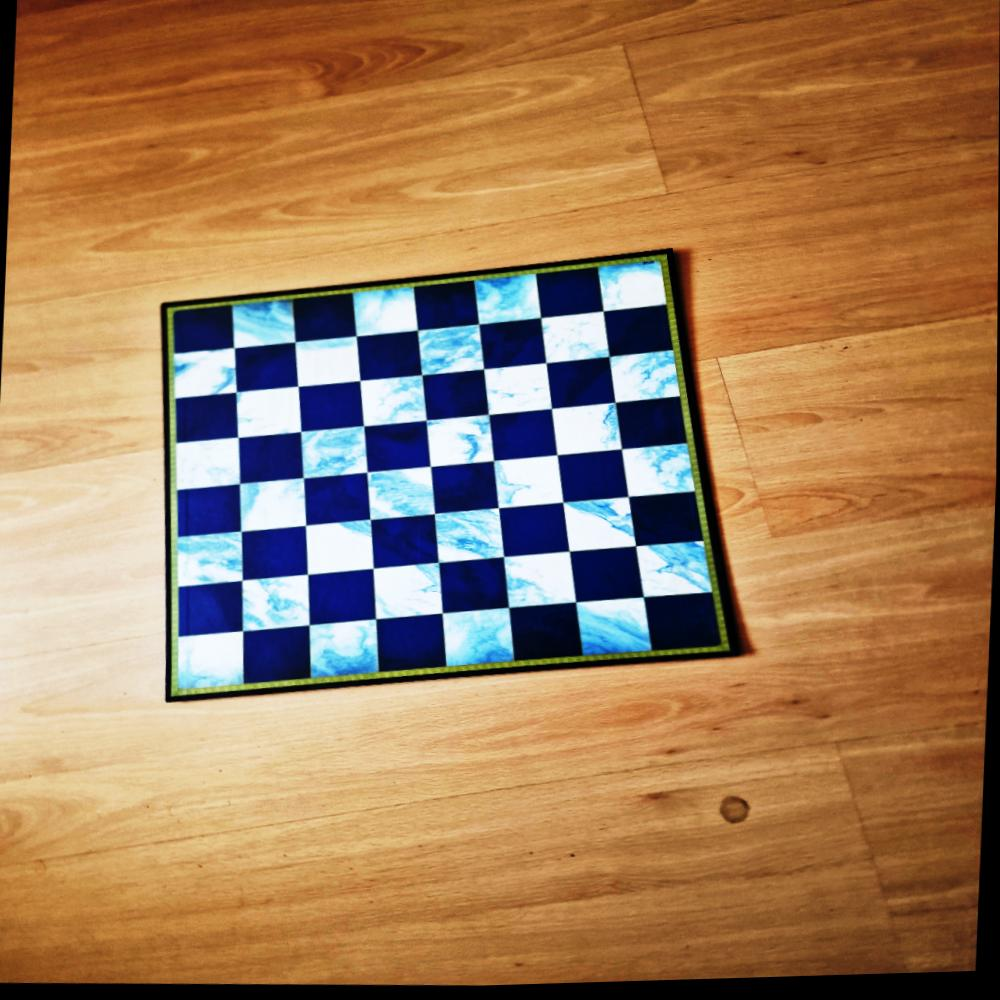chessfield: (568, 601, 649, 664), (439, 611, 515, 674), (640, 596, 716, 656), (557, 548, 634, 607), (616, 447, 694, 505), (305, 622, 379, 683), (498, 552, 571, 613), (505, 607, 580, 666), (369, 562, 444, 621), (175, 631, 245, 693), (300, 521, 373, 579), (362, 467, 435, 524), (555, 503, 628, 560), (630, 545, 703, 602), (242, 629, 313, 687), (376, 617, 448, 674), (472, 275, 544, 332), (542, 407, 615, 463), (242, 573, 312, 631), (609, 353, 680, 410), (492, 458, 564, 514), (437, 561, 509, 617), (428, 513, 502, 567), (306, 568, 376, 625), (422, 417, 494, 472), (366, 517, 438, 572), (625, 498, 698, 552), (175, 531, 244, 588), (239, 478, 309, 534), (481, 369, 553, 423), (549, 451, 621, 505), (536, 314, 609, 367), (493, 509, 566, 562), (346, 288, 417, 342), (595, 263, 666, 317), (541, 360, 613, 413), (614, 403, 686, 456), (357, 379, 426, 434), (296, 427, 365, 482), (425, 464, 496, 517), (230, 300, 301, 353), (241, 529, 310, 583), (300, 475, 370, 528), (174, 347, 240, 403), (418, 371, 487, 424), (178, 582, 244, 637), (485, 414, 555, 465), (417, 326, 484, 379), (296, 385, 364, 437), (358, 424, 426, 476), (601, 309, 670, 360), (534, 273, 603, 324), (175, 436, 241, 489), (231, 390, 298, 442), (237, 433, 305, 484), (291, 295, 359, 346), (169, 304, 238, 354), (233, 345, 300, 396), (175, 486, 243, 536), (412, 284, 480, 334), (294, 337, 362, 387), (477, 322, 546, 371), (354, 336, 422, 385), (173, 394, 239, 444)
